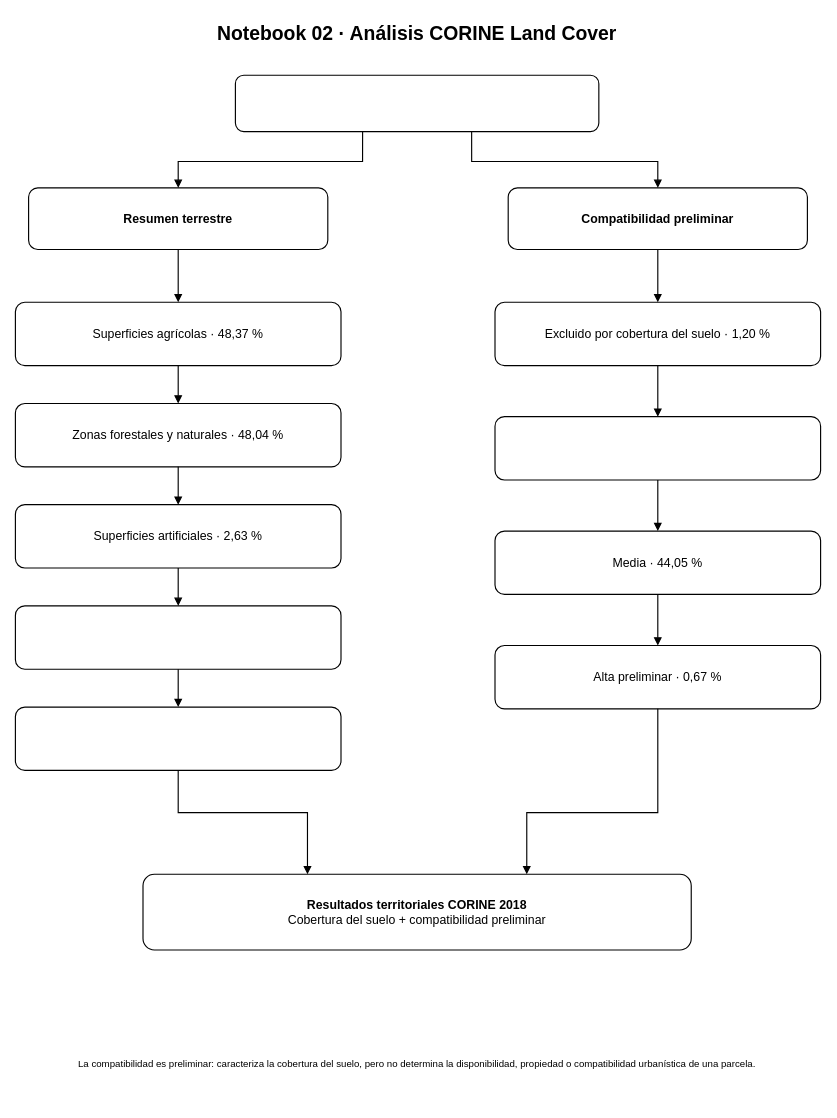
The diagram is 837 pixels wide and 1118 high, and some of its shapes have lost their labels. The shapes that lost their labels are listed below. From the top down, each one's centre as x and y in pixels, then its label:
point (416, 103): 44 clases CORINE válidas
point (657, 448): Baja o condicionada · 54,08 %
point (177, 637): Masas de agua · 0,74 %
point (177, 738): Humedales · 0,21 %
